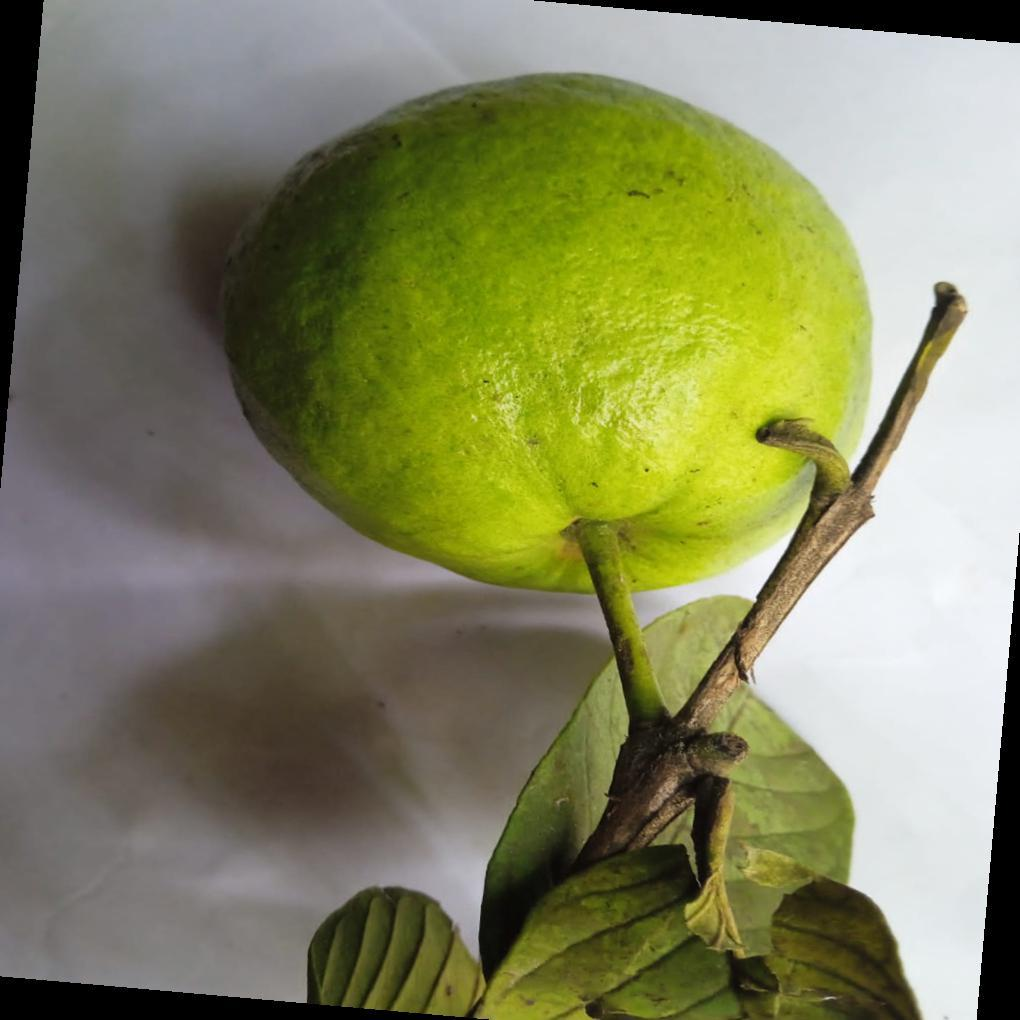FreshGuava: (220, 73, 876, 730)
